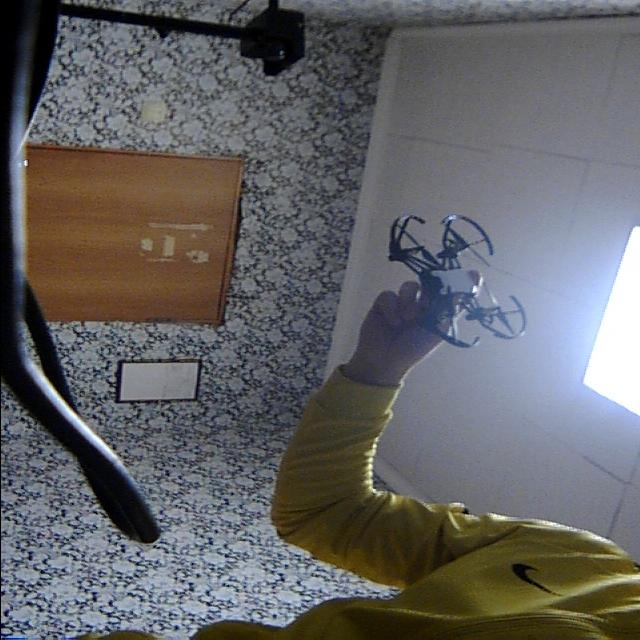drone: (368, 205, 536, 372)
